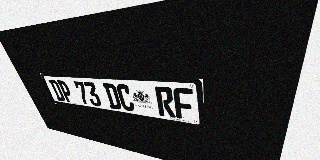3: (83, 82, 102, 107)
7: (73, 81, 91, 105)
C: (115, 84, 136, 112)
D: (102, 83, 122, 110), (48, 80, 66, 102)
F: (173, 87, 194, 121)
P: (56, 80, 75, 103)
R: (154, 86, 176, 118)
